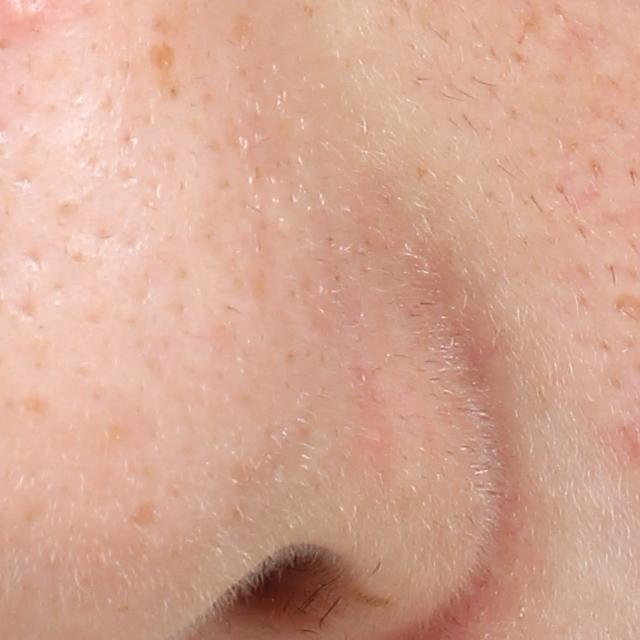melasma: (146, 42, 184, 101), (230, 11, 255, 46)
